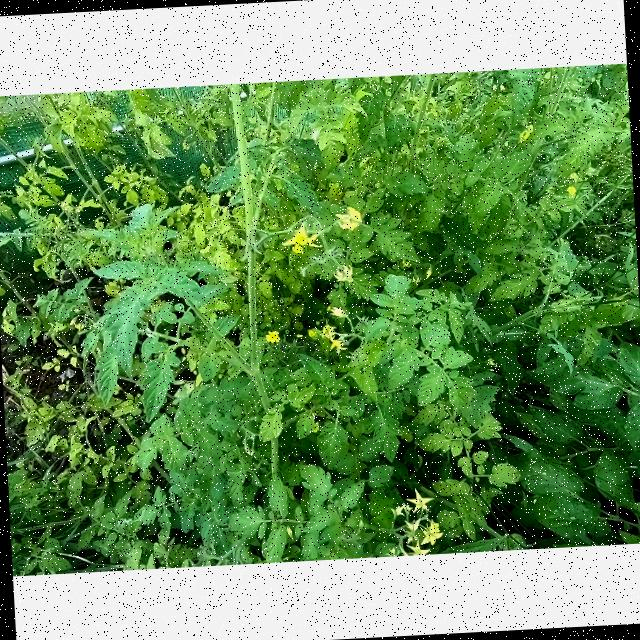Flowers: (280, 221, 323, 255), (397, 518, 445, 544), (404, 487, 435, 515), (324, 322, 351, 353), (336, 206, 366, 233), (391, 538, 434, 556), (334, 264, 356, 284), (328, 306, 349, 320), (521, 124, 536, 142), (265, 330, 281, 345), (390, 504, 406, 516), (566, 185, 579, 196), (401, 258, 412, 270), (307, 328, 318, 339), (411, 276, 422, 284)
